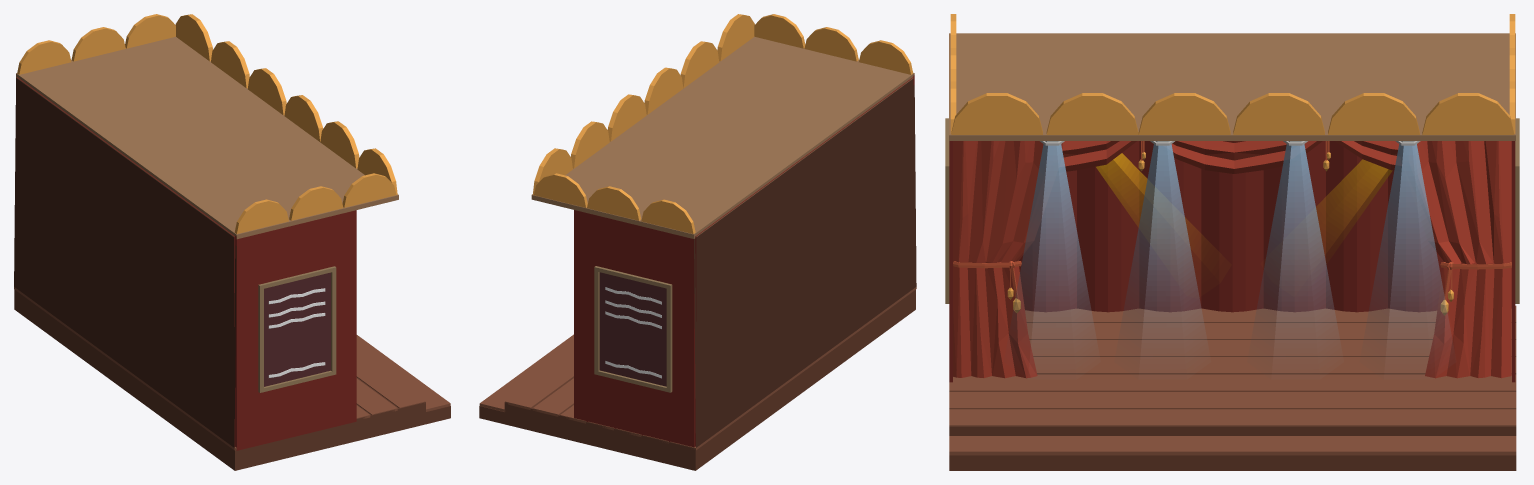
File: Theatre.glb
The picture shows the model from 3 angles, left to right: view 1: azimuth 30°, elevation 25°; view 2: azimuth 150°, elevation 25°; view 3: azimuth 270°, elevation 25°; orthographic projection. The views are drawn at different scales.
Parts seen in each view (by area): view 1: Cube; view 2: Cube; view 3: Cube.
Boxes of the visible parts, x1,y1,x2,y2 form: Cube: (14,14,450,470); Cube: (479,14,916,470); Cube: (945,14,1519,470).
Size of what is drawn, in the model's own units: 5.16 by 6.06 by 9.22.
2 materials, 2 textured.
